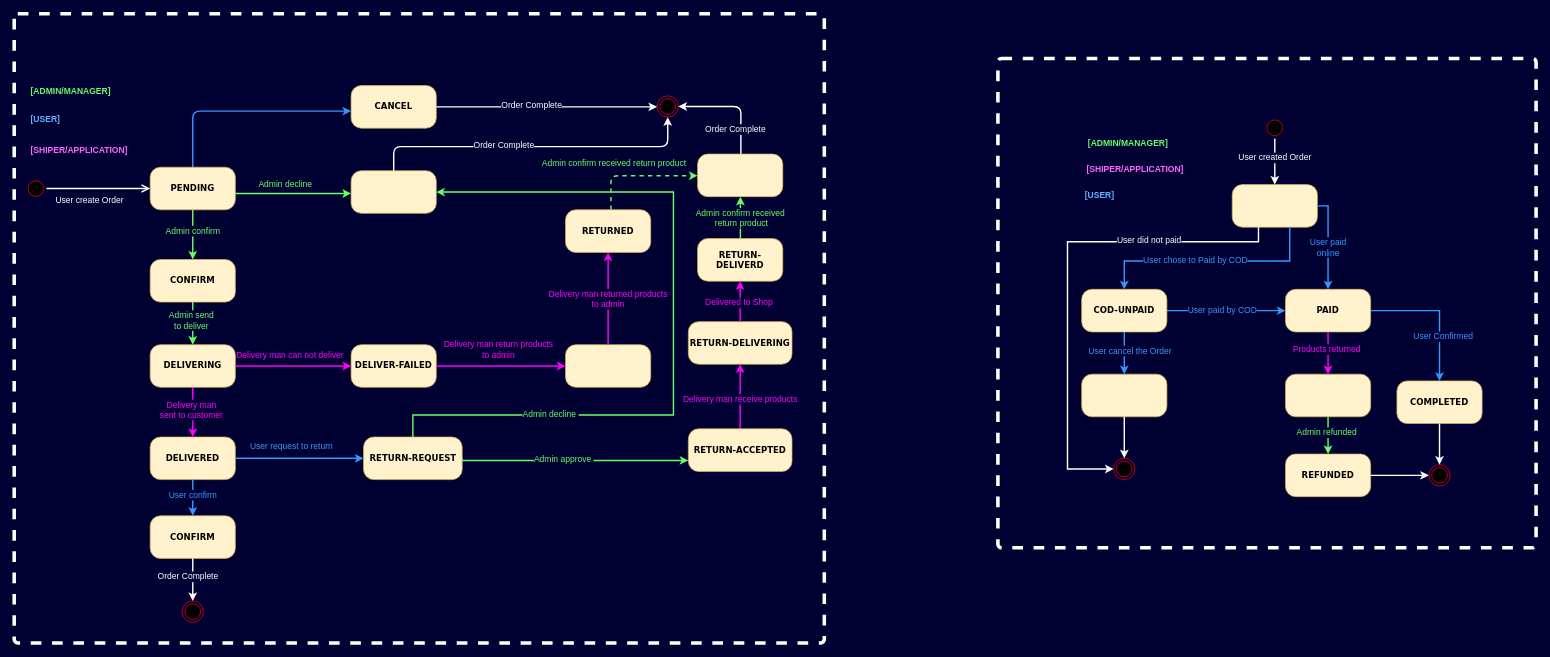
Image size: 1550x657. Some labels were removed from this diagram. Each missing label, with the box of its shape:
DECLINE: (350, 170, 436, 213)
ORDER PAYMENT STATUS: (996, 56, 1538, 549)
ORDER STATUS: (12, 12, 826, 644)
ORDER-CANCEL: (1081, 373, 1167, 417)
REFUNDING: (1285, 373, 1371, 417)
RETURN-CONFIRM: (697, 153, 783, 197)
RETURNING: (565, 344, 651, 387)
UNPAID: (1231, 184, 1317, 227)
